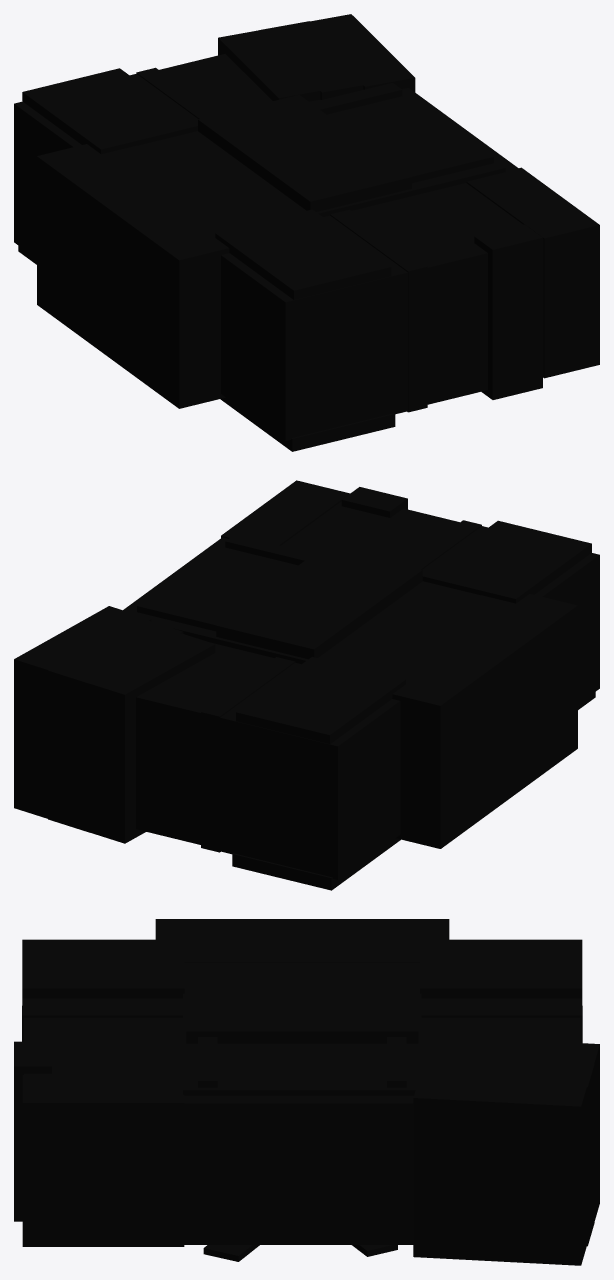
Rendered from bench_chestplate_5.obj.
3 views of the same model, one above another, from view 1: azimuth 30°, elevation 25°; view 2: azimuth 150°, elevation 25°; view 3: azimuth 270°, elevation 25° (orthographic). The views are drawn at different scales.
Parts seen in each view (by area): view 1: geometry; view 2: geometry; view 3: geometry.
Part boxes in pixels (x1,y1,x2,y2): geometry: (14,14,599,451); geometry: (14,480,599,890); geometry: (14,919,599,1265).
Bounding box in the file's own units: 0.5685 × 0.25 × 0.7392.
